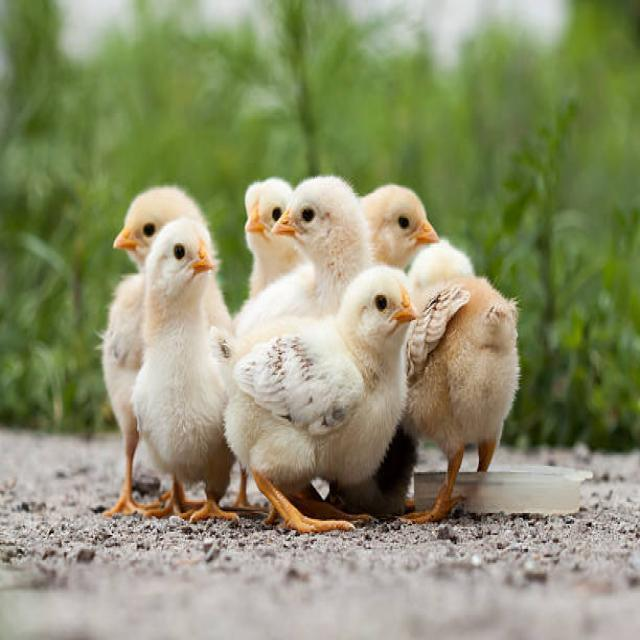Healthy: (229, 261, 415, 534), (137, 216, 243, 531)
